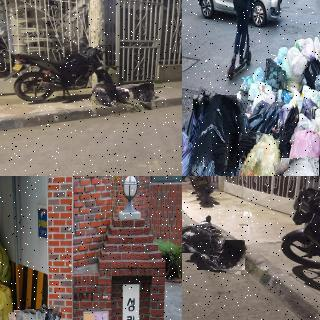Garbage: (187, 93, 242, 176), (235, 131, 282, 176), (196, 237, 246, 273), (290, 125, 320, 176), (182, 226, 223, 255), (276, 156, 320, 176), (182, 136, 199, 176), (289, 47, 309, 80), (91, 83, 117, 106), (129, 83, 155, 103), (115, 89, 136, 107)
